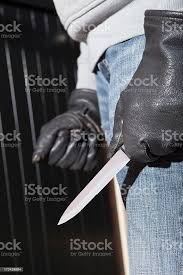knife: (56, 131, 150, 225)
